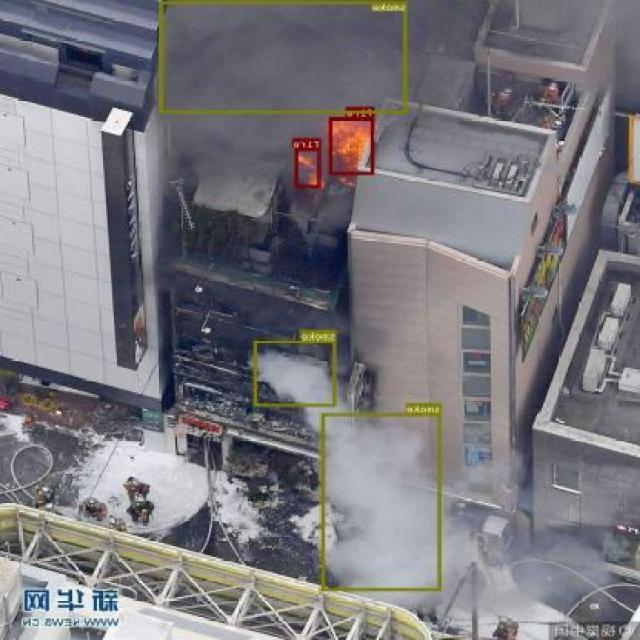Fire: (330, 117, 375, 174), (296, 148, 322, 188)
Smoke: (160, 0, 408, 114), (322, 412, 442, 591), (255, 340, 337, 406)
